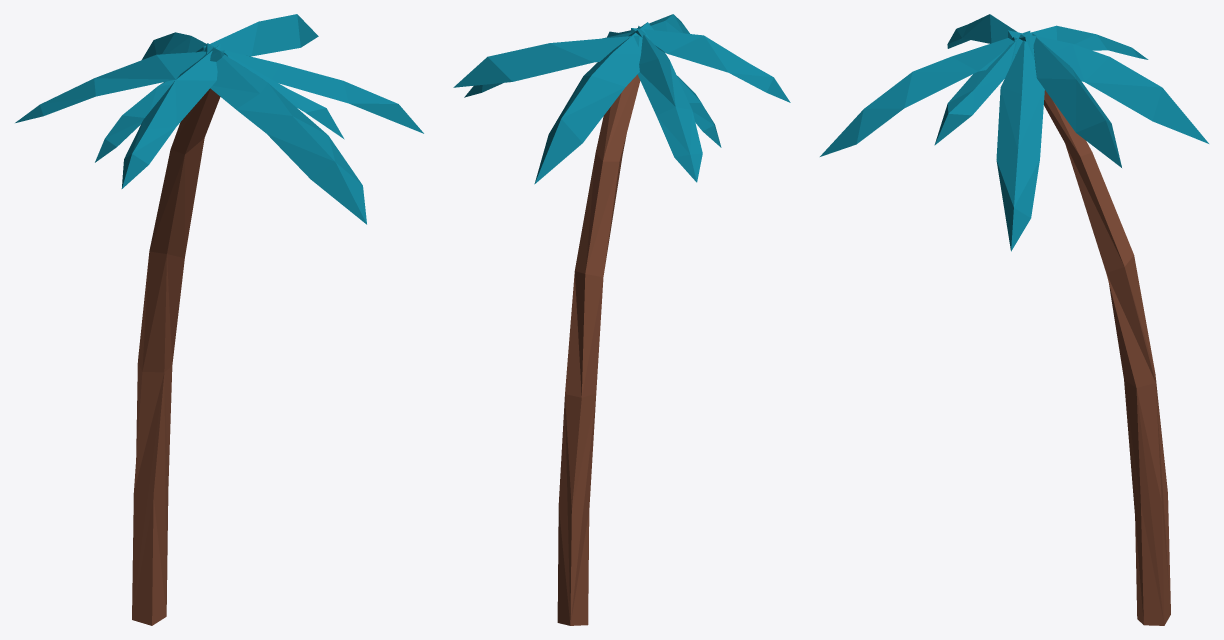
File: Tree_09_summer_blue_mat.fbx
The picture shows the model from 3 angles, left to right: view 1: azimuth 30°, elevation 25°; view 2: azimuth 150°, elevation 25°; view 3: azimuth 270°, elevation 25°; orthographic projection. The views are drawn at different scales.
Parts seen in each view (by area): view 1: Tree_09_summer_blue_mat; view 2: Tree_09_summer_blue_mat; view 3: Tree_09_summer_blue_mat.
Boxes of the visible parts, box(x1,y1,x2,y2) form: Tree_09_summer_blue_mat: box(15, 14, 423, 625); Tree_09_summer_blue_mat: box(453, 14, 790, 625); Tree_09_summer_blue_mat: box(820, 14, 1208, 625).
Bounding box in the file's own units: 128 × 228 × 137.
